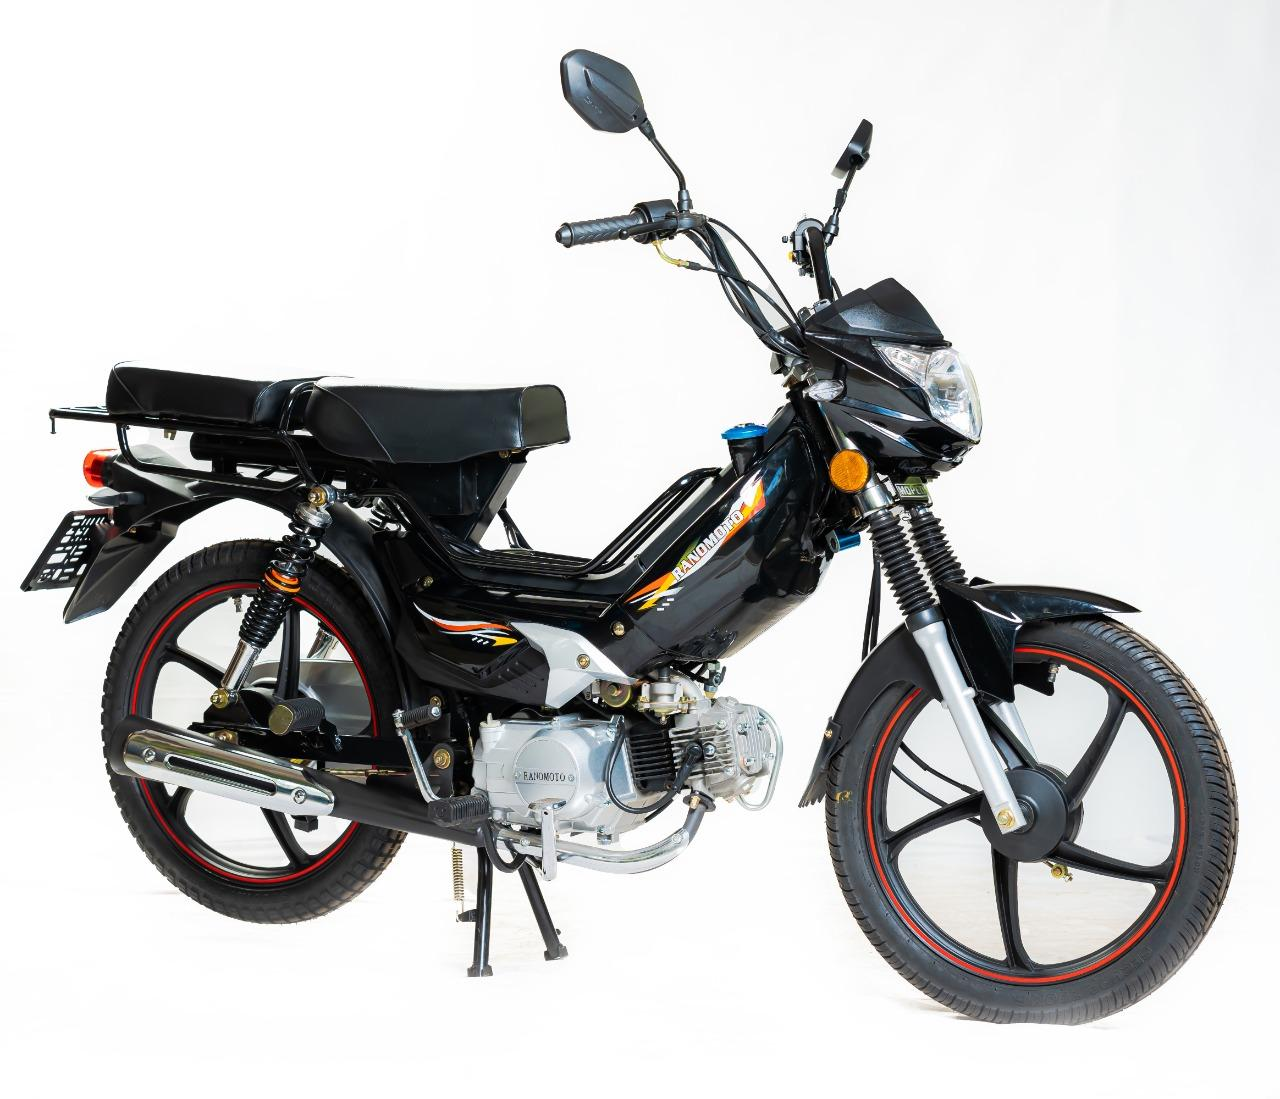motorbike: (21, 48, 1237, 1025)
